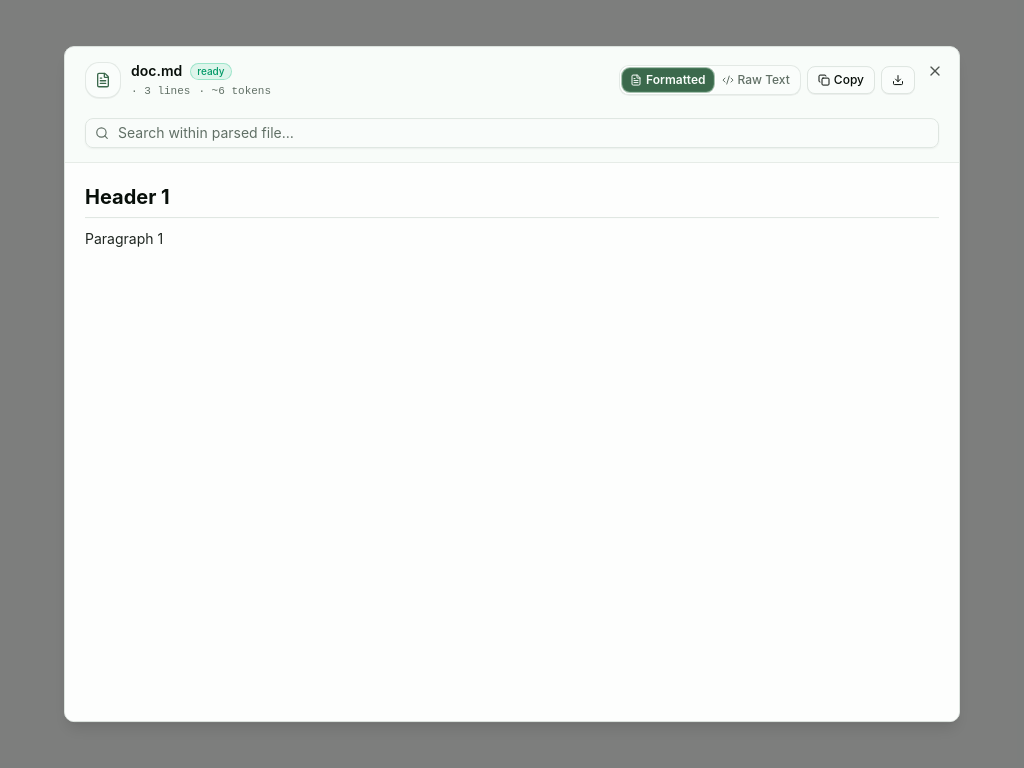
Test case: ParsedFileViewerDialog › toggles between formatted and raw view mode
The width and height of the screenshot is (1024, 768).
Expected: the heading "Header 1" is shown, [85, 183, 939, 218]
Click the button with test id "raw-mode-btn": (756, 80) [714, 68, 798, 92]
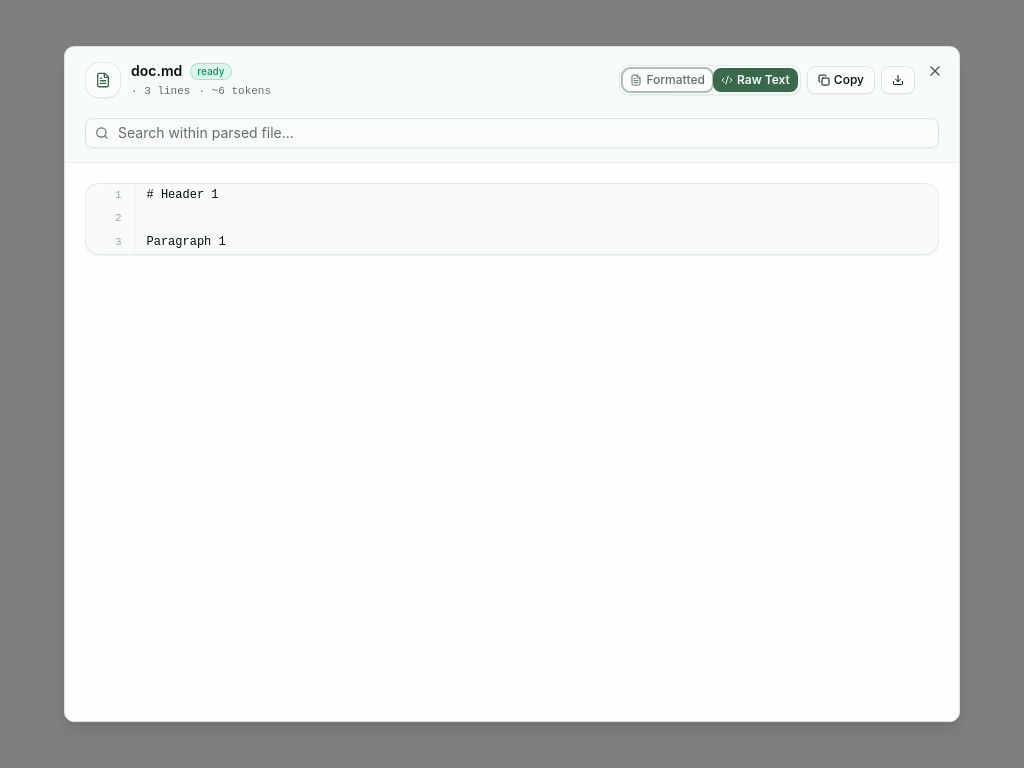
Expected: the text "# Header 1" is shown, [134, 184, 938, 207]
